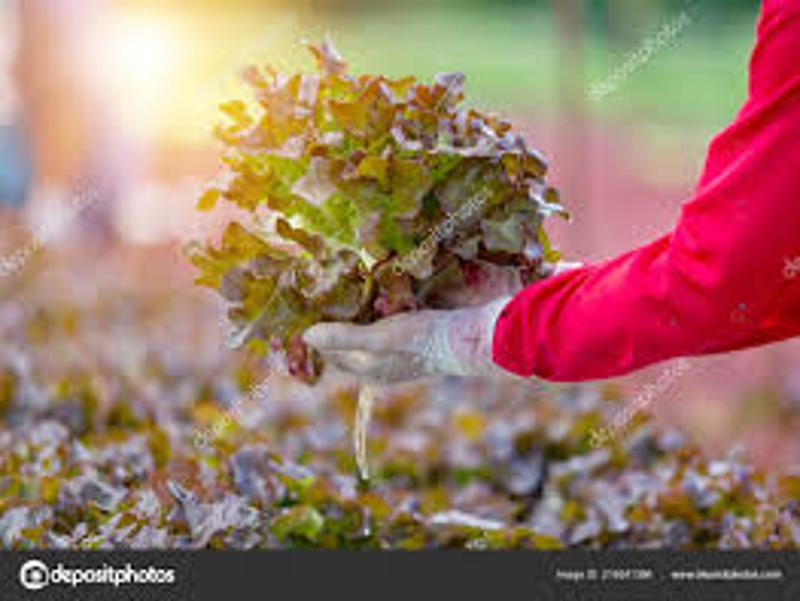red lettuce: (215, 45, 546, 345)
